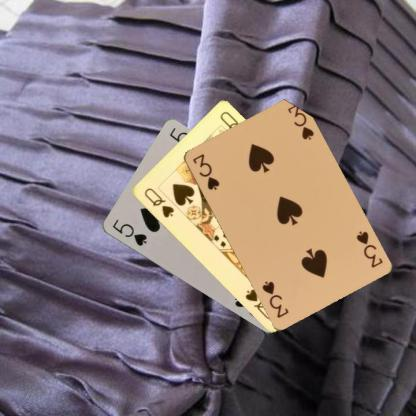3s: (190, 151, 221, 192), (353, 228, 384, 269)
5s: (109, 217, 148, 248)
Qs: (141, 185, 175, 219)
